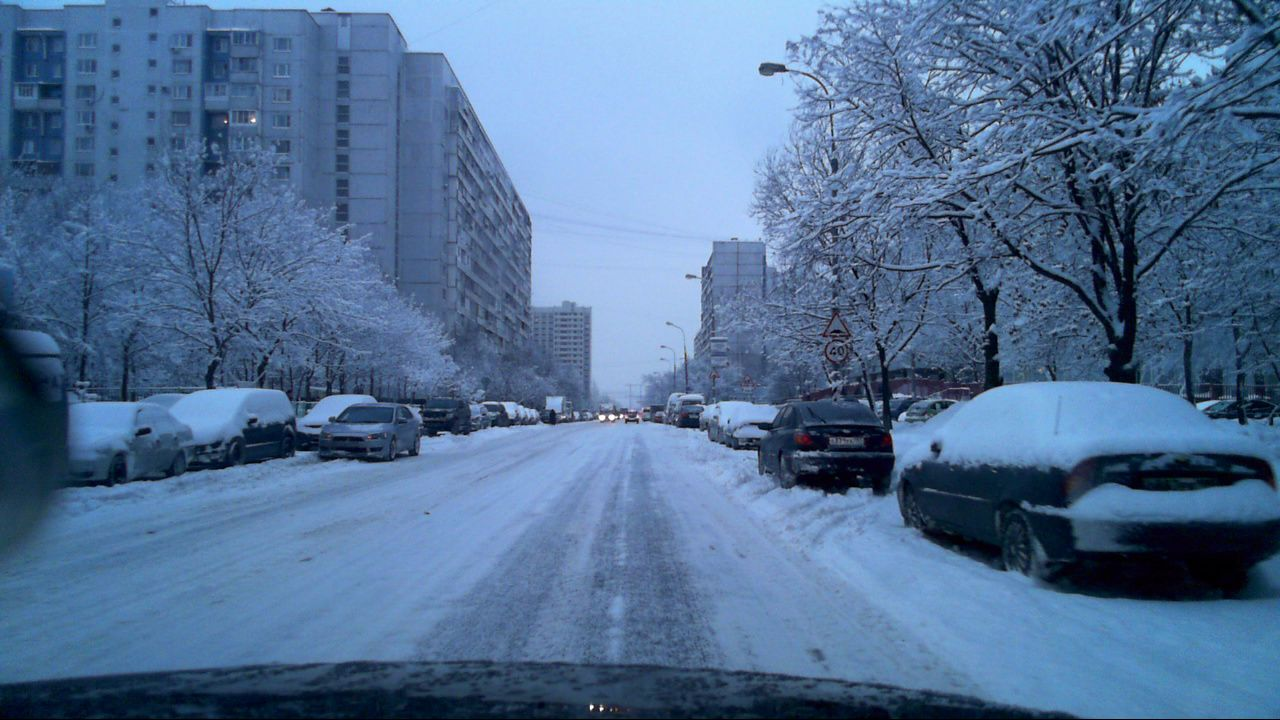speed_warning_40: (825, 336, 849, 363)
